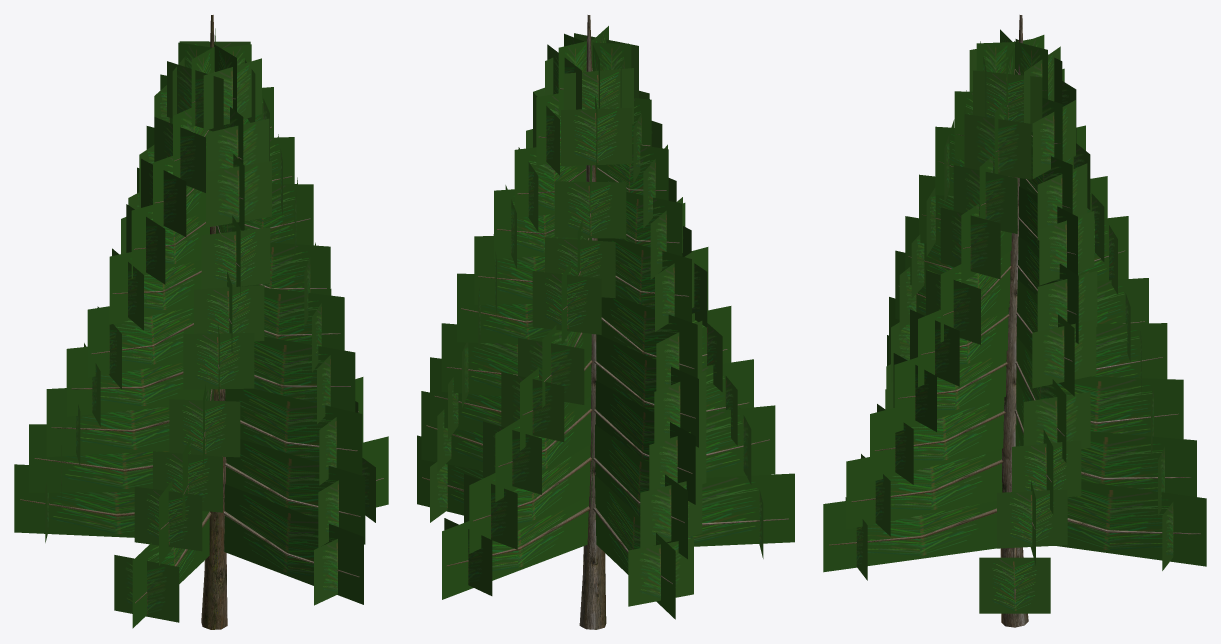
File: pine-mid.gltf
3 views of the same model, side by side, from view 1: azimuth 30°, elevation 25°; view 2: azimuth 150°, elevation 25°; view 3: azimuth 270°, elevation 25° (orthographic).
Size of the model in its own units: 0.5434 by 1 by 0.5713.
Materials: 2 (2 with a texture image).
